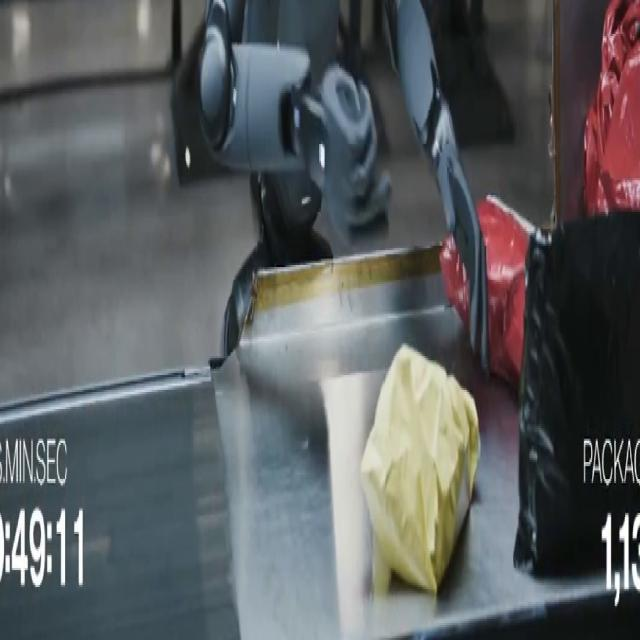package: (514, 212, 639, 574), (361, 346, 480, 595), (584, 0, 639, 216), (477, 198, 533, 387)
